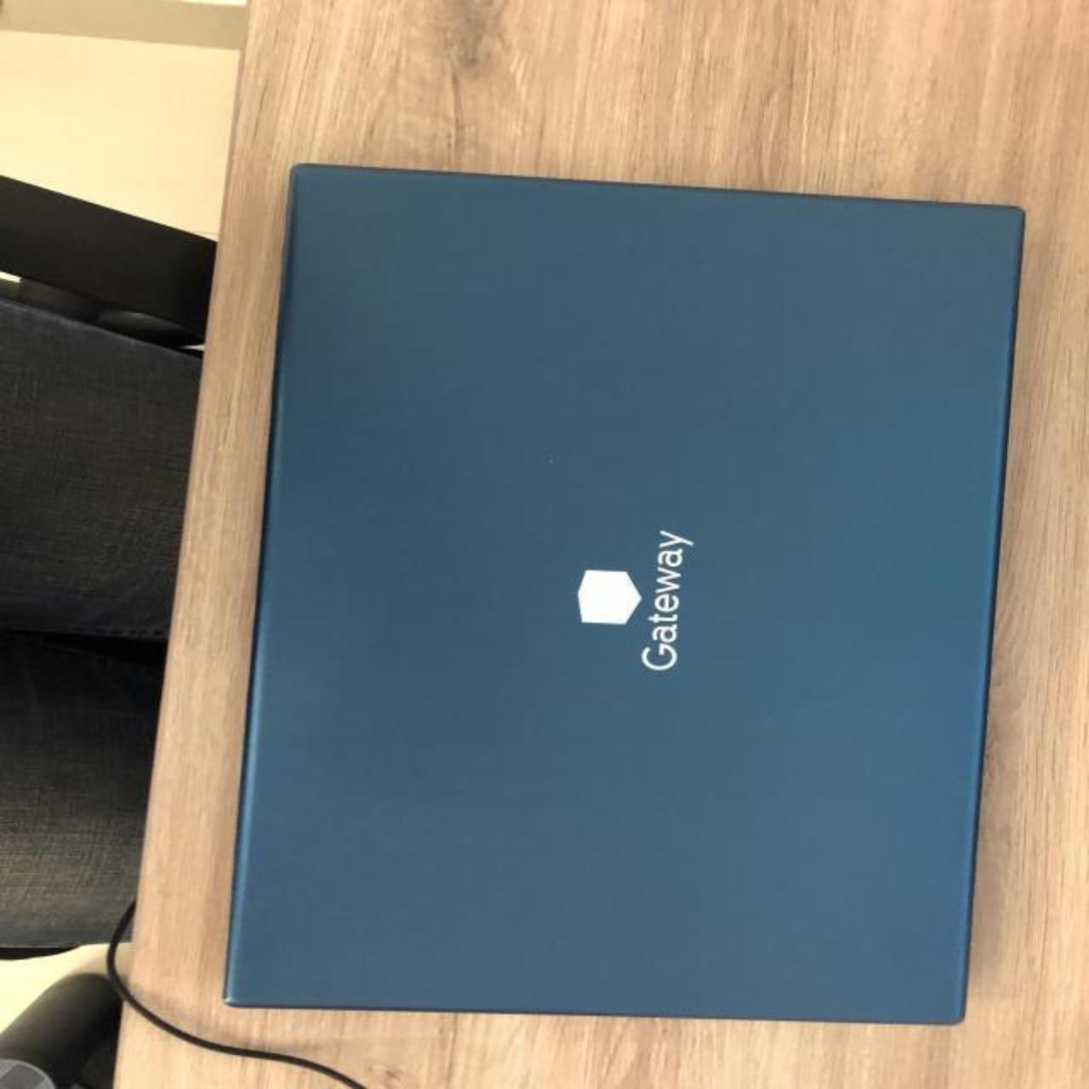laptop: (219, 157, 1027, 1028)
